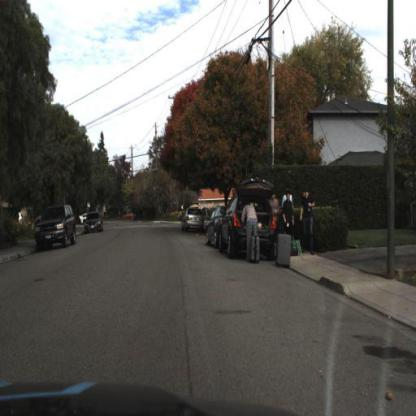car: (219, 184, 280, 260), (31, 203, 77, 250), (82, 211, 108, 238), (269, 188, 280, 235)
pedestrian: (299, 188, 318, 253), (242, 197, 260, 265), (282, 191, 295, 239), (281, 192, 294, 239), (283, 184, 296, 203), (268, 192, 278, 210)
